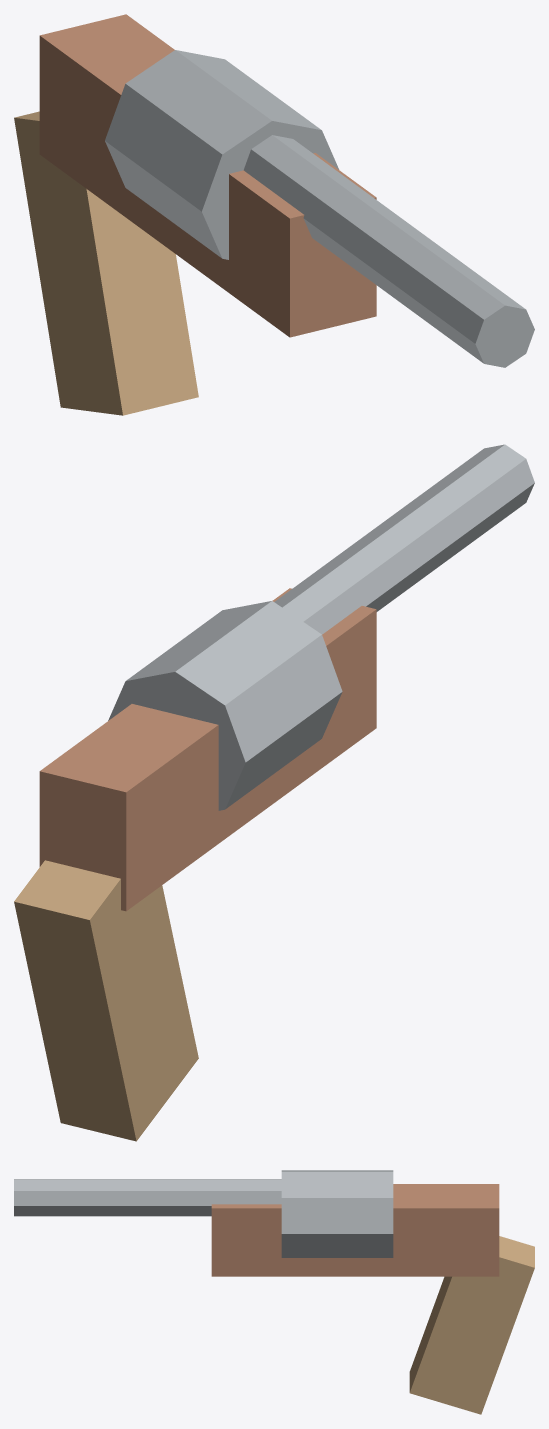
File: SM_HandmadeRevolver.fbx
The picture shows the model from 3 angles, top to bottom: view 1: azimuth 30°, elevation 25°; view 2: azimuth 150°, elevation 25°; view 3: azimuth 270°, elevation 25°; orthographic projection. The views are drawn at different scales.
Parts seen in each view (by area): view 1: SM_HandmadeRevolver; view 2: SM_HandmadeRevolver; view 3: SM_HandmadeRevolver.
Boxes of the visible parts, <box> form: SM_HandmadeRevolver: <box>14,14,534,415</box>; SM_HandmadeRevolver: <box>14,444,534,1141</box>; SM_HandmadeRevolver: <box>14,1170,534,1414</box>.
Bounding box in the file's own units: 520 × 2899 × 1427.
